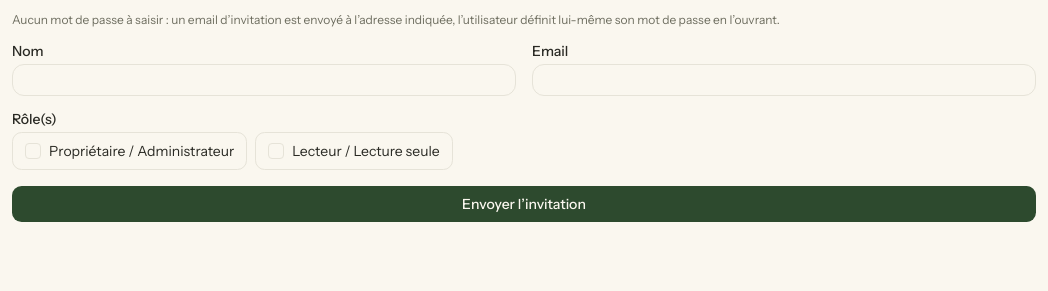
UserForm — création (invitation) › exige au moins un rôle avant de soumettre
Click the button "Envoyer l’invitation" at [524, 204], box x1=12 y1=186 x2=1036 y2=222
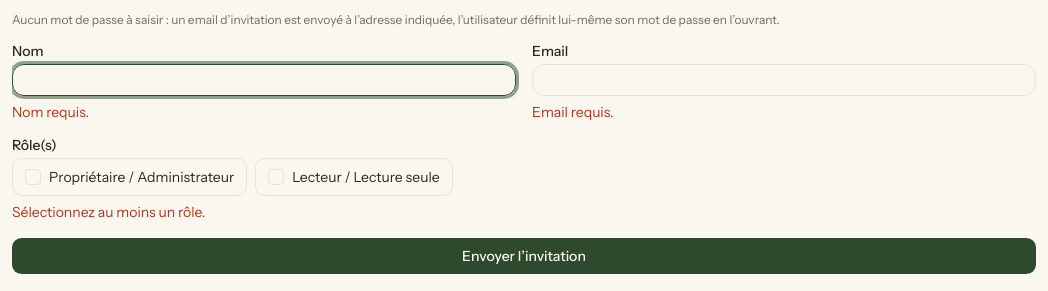
expect the text "Sélectionnez au moins un rôle." is shown: met, box x1=12 y1=203 x2=205 y2=221
